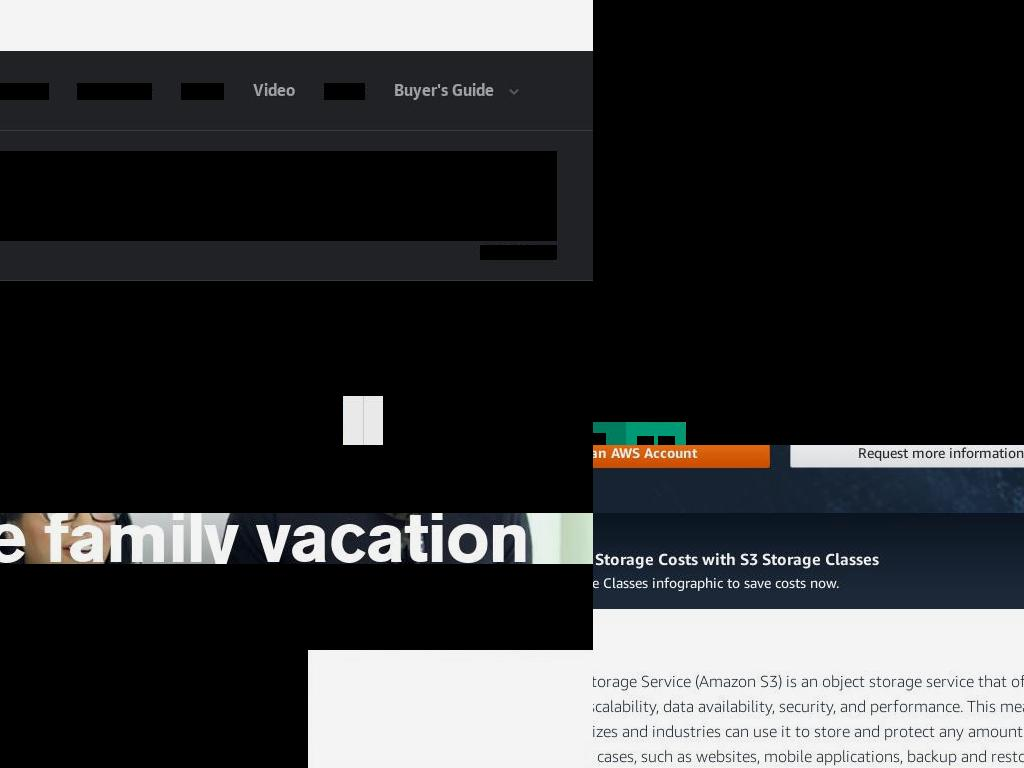button: (0, 445, 593, 650), (593, 513, 1024, 609), (0, 649, 308, 768), (593, 290, 909, 312), (790, 445, 1024, 468), (593, 246, 813, 268), (393, 76, 540, 107), (593, 445, 771, 468), (480, 245, 557, 260)
heading: (593, 59, 994, 171), (593, 547, 1024, 572)
iframe: (0, 151, 557, 241), (383, 311, 593, 445)
image: (0, 445, 593, 649), (0, 281, 593, 396), (0, 649, 308, 768), (480, 245, 557, 260), (553, 580, 588, 613), (789, 248, 808, 268), (885, 292, 904, 312), (637, 436, 654, 445), (658, 436, 675, 445), (507, 88, 520, 95)
text: (593, 0, 1024, 422), (593, 671, 1024, 768), (0, 513, 593, 564), (0, 577, 544, 614), (593, 180, 994, 221), (593, 572, 1024, 594), (593, 528, 1024, 547), (686, 422, 1024, 445), (791, 445, 1024, 467), (593, 290, 813, 312), (593, 445, 770, 467), (593, 246, 748, 268), (0, 735, 98, 762), (393, 83, 498, 100), (813, 290, 880, 312), (77, 83, 152, 100), (0, 83, 49, 100), (748, 246, 784, 268), (181, 83, 224, 100), (252, 83, 295, 100), (324, 83, 365, 100)
